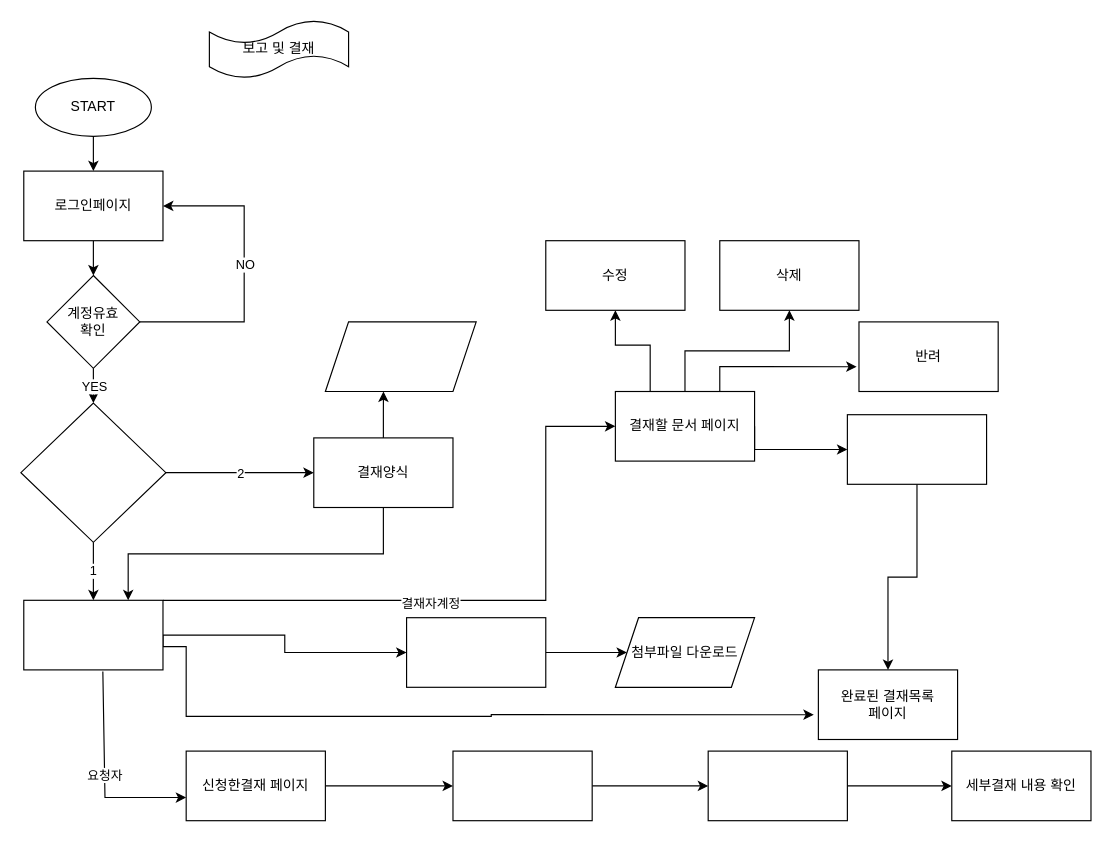
This 1111x841 diagram has some shape labels left out. The shapes that lost their labels are listed below. From the top down, each one's centre as x and y in pixels, then its label:
At point 400,356: "생성/수정/읽기/삭제".
At point 916,449: "결재".
At point 93,472: "1.사용자 계정 2.운영자 계정".
At point 93,634: "메인페이지 (캘린더페이지)".
At point 475,652: "결재양식 페이지".
At point 522,785: "신청결재목록, 상태확인".
At point 777,785: "결재문서 선택".
